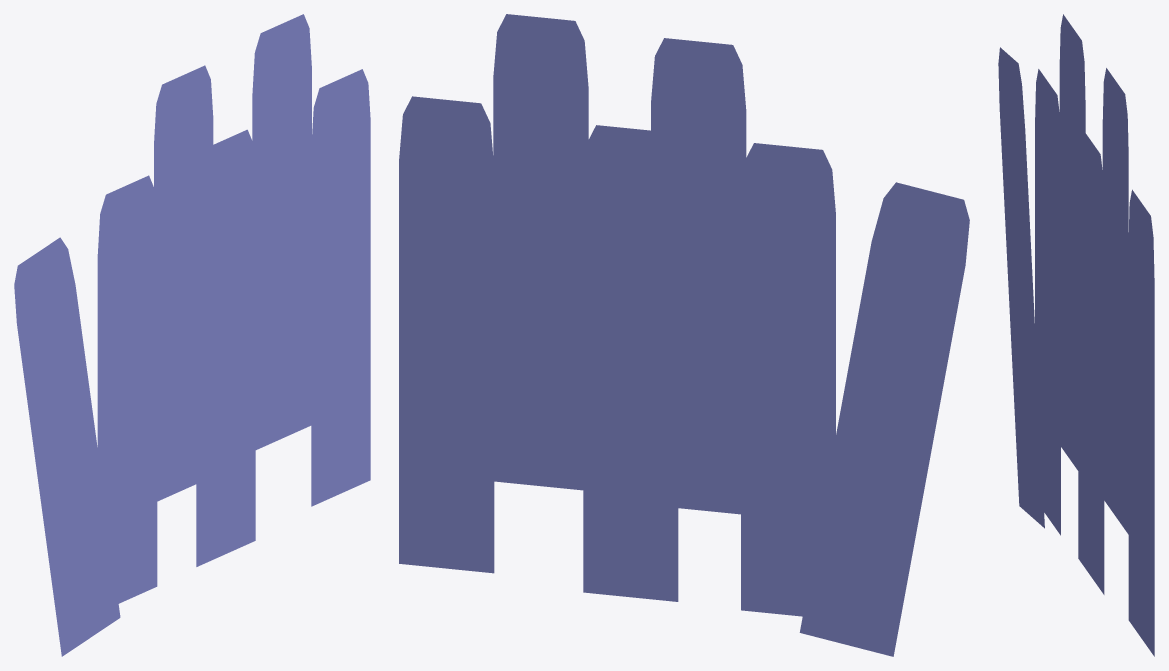
Rendered from grass.fbx.
The picture shows the model from 3 angles, left to right: view 1: azimuth 30°, elevation 25°; view 2: azimuth 150°, elevation 25°; view 3: azimuth 270°, elevation 25°; orthographic projection. The views are drawn at different scales.
Parts seen in each view (by area): view 1: Plane.051; view 2: Plane.051; view 3: Plane.051.
Boxes of the visible parts, bbox=[...] form: Plane.051: bbox=[14, 14, 370, 656]; Plane.051: bbox=[399, 14, 969, 656]; Plane.051: bbox=[998, 14, 1154, 656].
Bounding box in the file's own units: 48.44 × 57.44 × 14.47.
